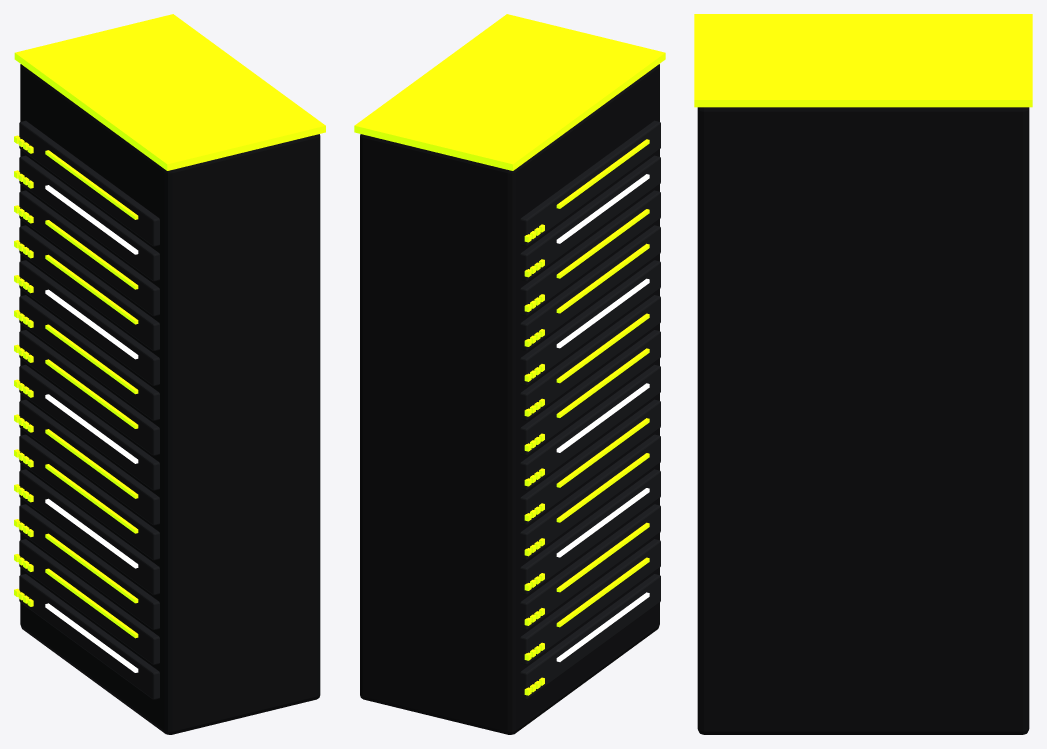
Rendered from server_rack.glb.
3 views of the same model, side by side, from view 1: azimuth 30°, elevation 25°; view 2: azimuth 150°, elevation 25°; view 3: azimuth 270°, elevation 25° (orthographic). The views are drawn at different scales.
Visible parts, largest first — view 1: server_rack; view 2: server_rack; view 3: server_rack.
Part boxes in pixels (x1,y1,x2,y2): server_rack: (14,14,325,734); server_rack: (354,14,665,734); server_rack: (694,14,1032,734).
Size of the model in its own units: 1.29 by 4.24 by 2.04.
